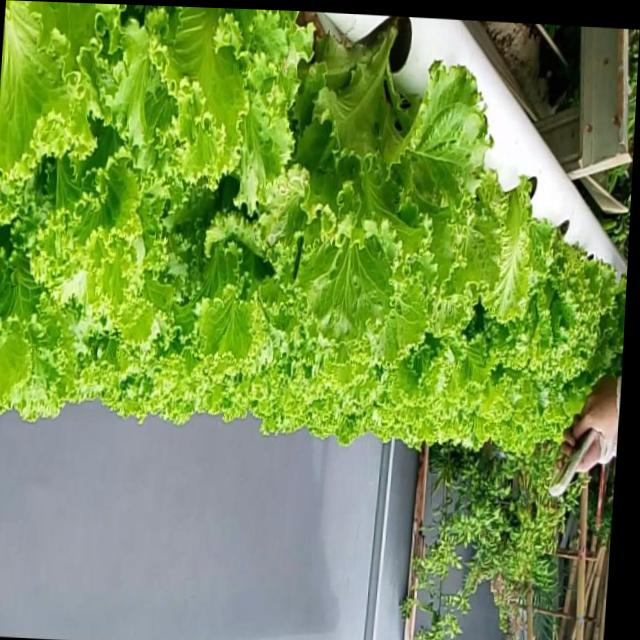Mature: (0, 0, 626, 453), (273, 34, 471, 329), (476, 194, 622, 409)
